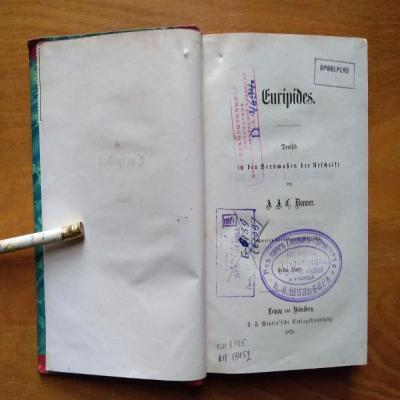rare_books: (27, 26, 368, 384)
